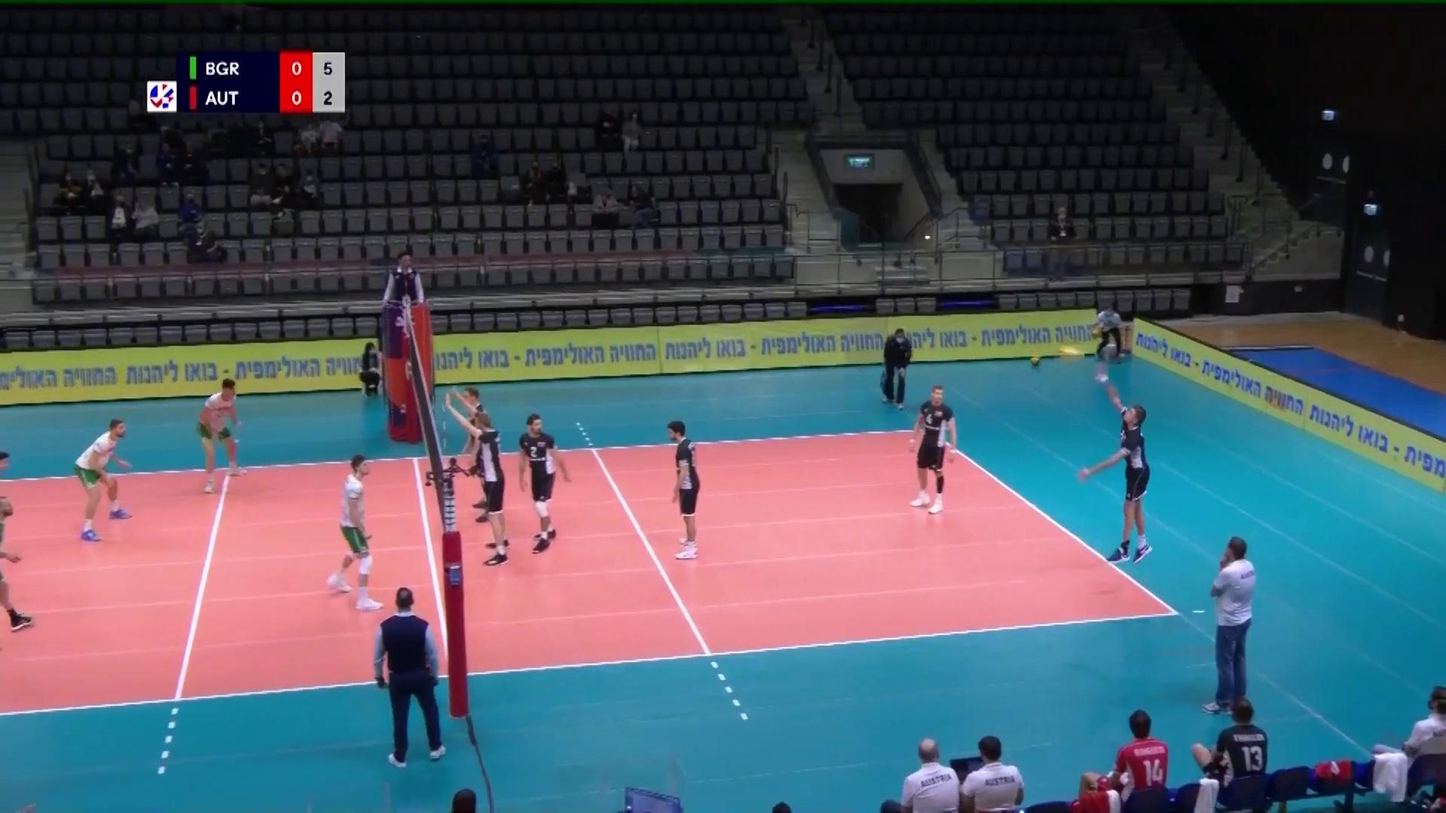ball: (1057, 346, 1083, 361)
